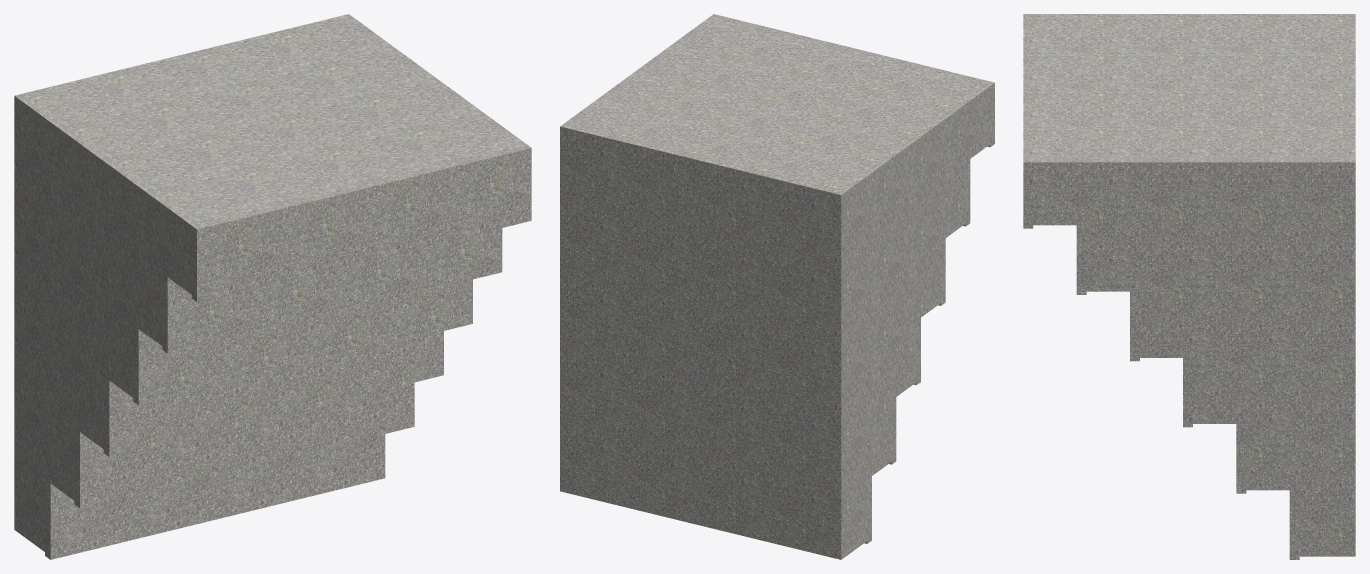
File: stairs.obj
3 views of the same model, side by side, from view 1: azimuth 30°, elevation 25°; view 2: azimuth 150°, elevation 25°; view 3: azimuth 270°, elevation 25° (orthographic). The views are drawn at different scales.
Visible parts, largest first — view 1: Mesh1 Model; view 2: Mesh1 Model; view 3: Mesh1 Model.
Part boxes in pixels (x1=…): Mesh1 Model: x1=14, y1=14, x2=531, y2=559; Mesh1 Model: x1=560, y1=14, x2=994, y2=559; Mesh1 Model: x1=1023, y1=14, x2=1355, y2=559.
Size of the model in its own units: 1.22 by 1.52 by 1.15.
Materials: 1 (1 with a texture image).
